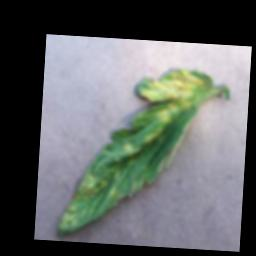Leaf_Mold: (132, 65, 208, 127)
